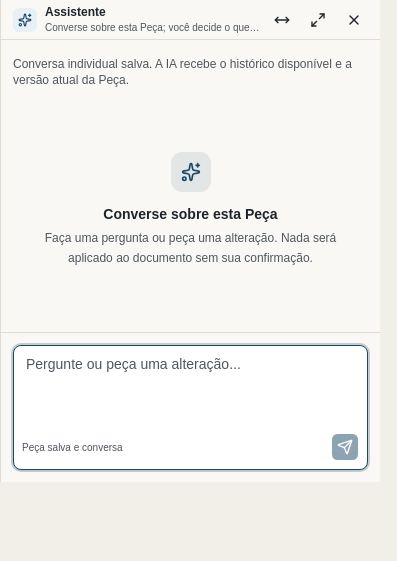
Test: AssistantPanel › não envia uma peça alterada durante a sincronização
Type "Revise a peça." into the text box named "O que você quer que a IA faça?" at [190, 386], box [14, 346, 367, 426]
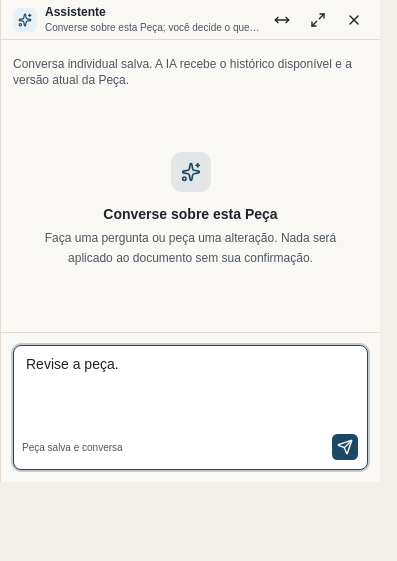
Click the button named "Enviar para IA" at [345, 447], box [331, 433, 359, 461]
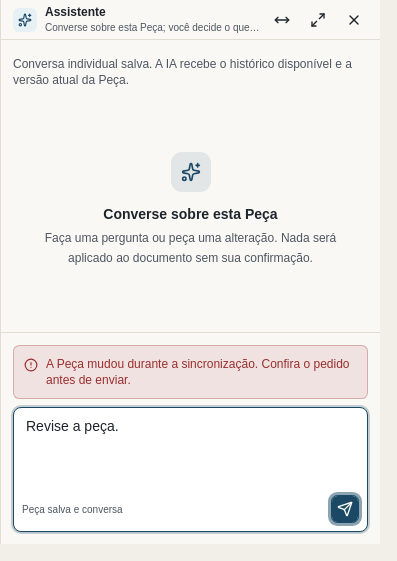
Expected: the message shows "A Peça mudou durante a sincronização", [46, 357, 350, 387]
